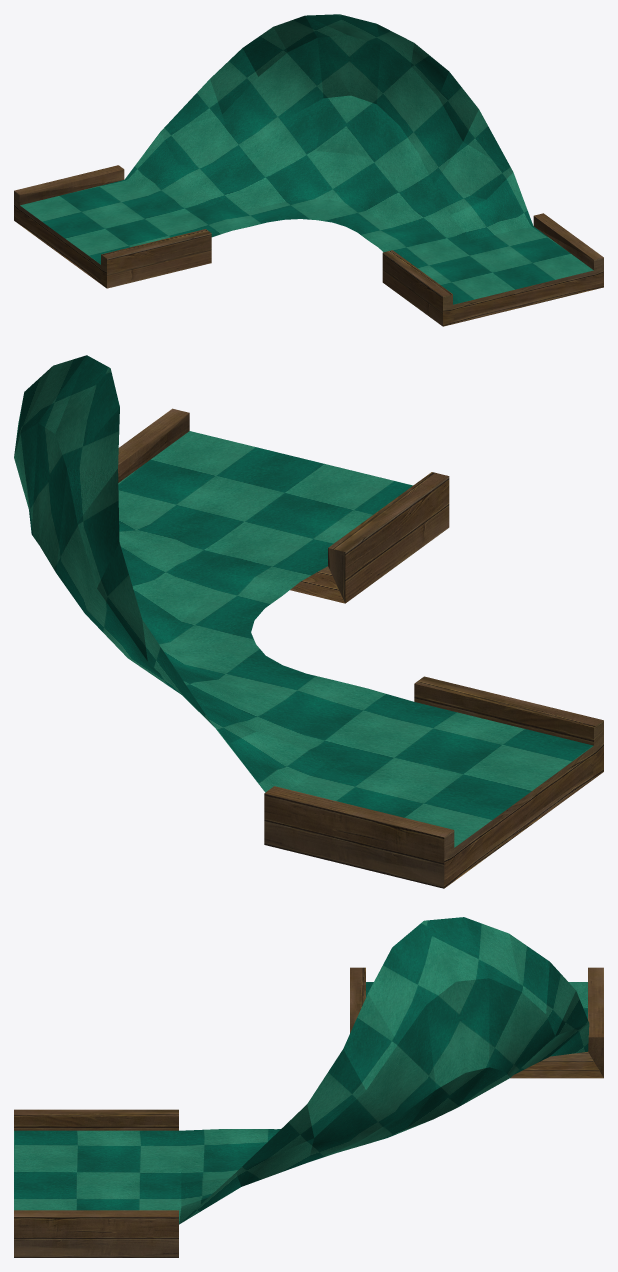
Rendered from Concave_Curve_corner.gltf.
3 renders of one model, top to bottom at view 1: azimuth 30°, elevation 25°; view 2: azimuth 150°, elevation 25°; view 3: azimuth 270°, elevation 25°, orthographic. The views are drawn at different scales.
Parts seen in each view (by area): view 1: Concave_Curve_corner_glb; view 2: Concave_Curve_corner_glb; view 3: Concave_Curve_corner_glb.
Part boxes in pixels (x1,y1,x2,y2): Concave_Curve_corner_glb: (14, 14, 603, 326); Concave_Curve_corner_glb: (14, 355, 603, 888); Concave_Curve_corner_glb: (14, 917, 603, 1257).
Size of what is drawn, in the model's own units: 9.29 by 4.54 by 9.29.
2 materials, 2 textured.
